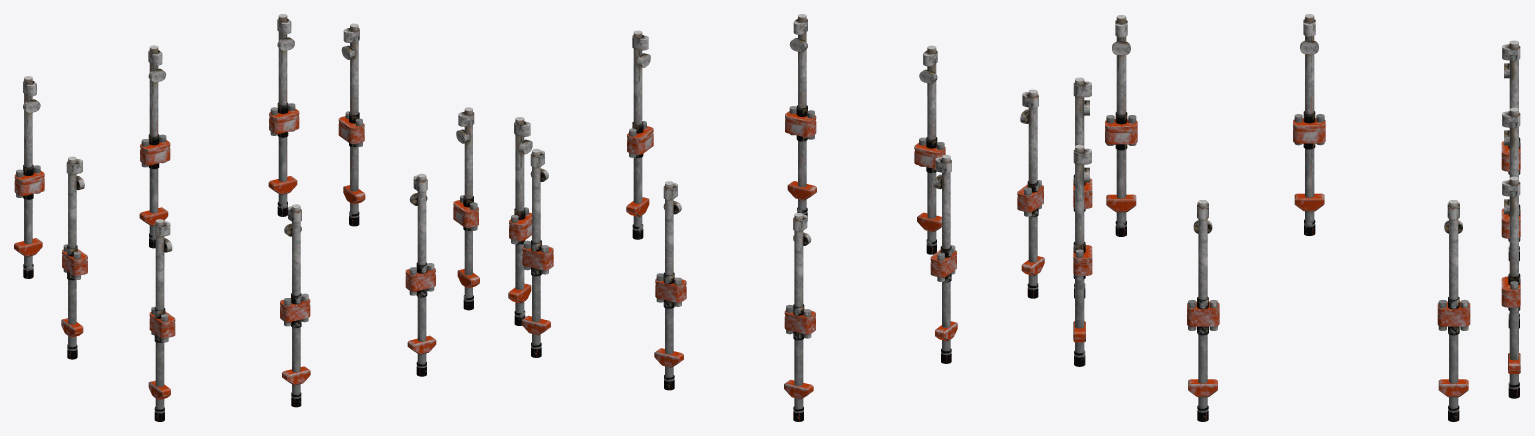
Rendered from nogi.fbx.
3 views of the same model, side by side, from view 1: azimuth 30°, elevation 25°; view 2: azimuth 150°, elevation 25°; view 3: azimuth 270°, elevation 25° (orthographic). The views are drawn at different scales.
Parts seen in each view (by area): view 1: Cylinder.008; view 2: Cylinder.008; view 3: Cylinder.008.
Boxes of the visible parts, x1=… form: Cylinder.008: x1=14, y1=14, x2=479, y2=421; Cylinder.008: x1=508, y1=14, x2=1044, y2=421; Cylinder.008: x1=1073, y1=14, x2=1520, y2=421.
Size of the model in its own units: 2166 by 1150 by 2142.
